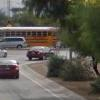Bus: (4, 23, 58, 45)
